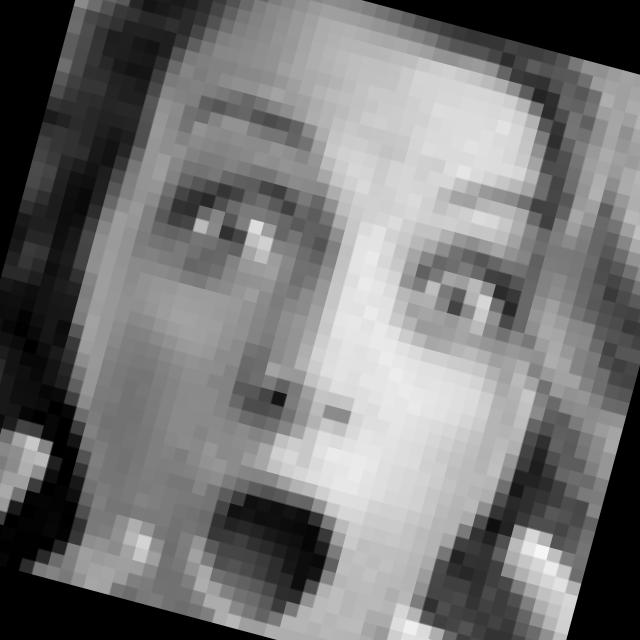surprise: (47, 83, 560, 640)
